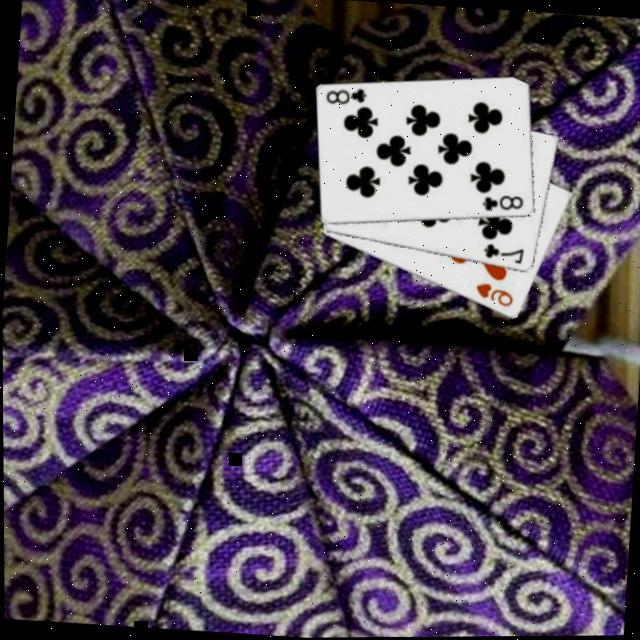7C: (478, 238, 526, 265)
8C: (321, 80, 369, 107), (478, 189, 525, 214)
9H: (469, 278, 515, 309)
